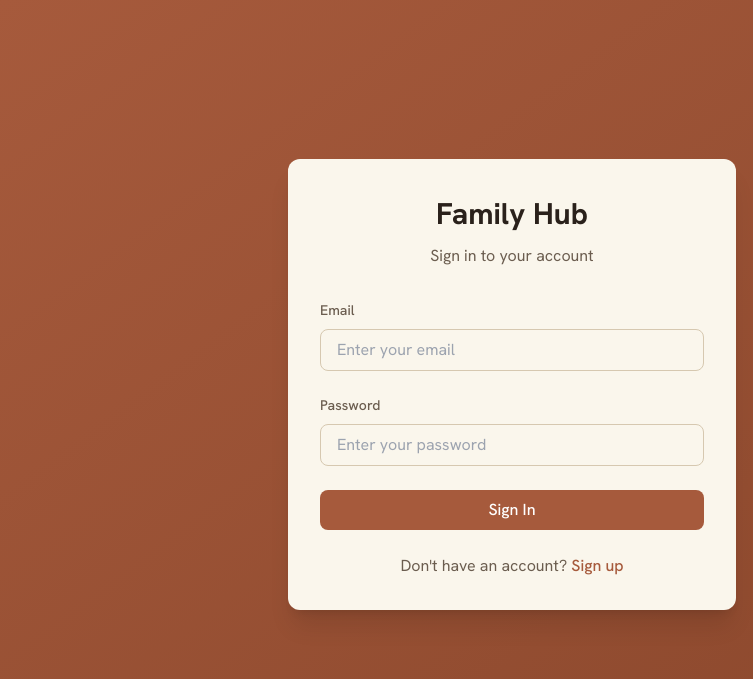
Test: Authentication Pages › Login Page › should show an error message and not navigate when login fails
Type "test@example.com" into the field with placeholder "Enter your email".
click(512, 350); type("test@example.com")  # box [320,328,704,370]
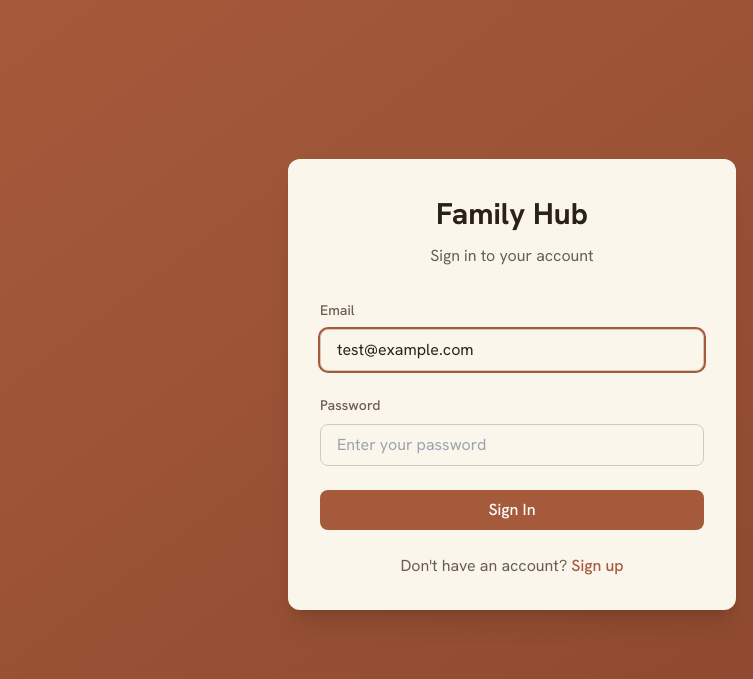
Type "wrong" into the password field with placeholder "Enter your password".
click(512, 444); type("wrong")  # box [320,424,704,466]
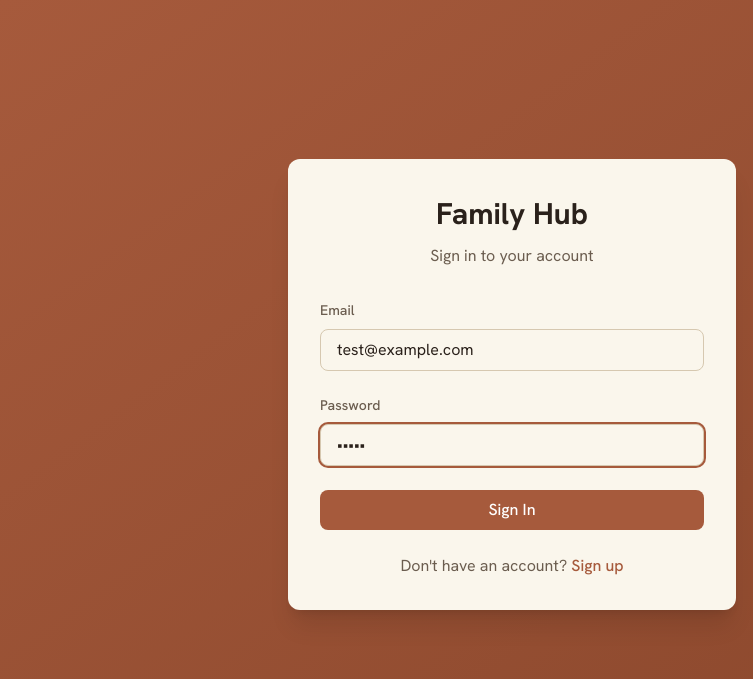
Click the button "Sign In".
click(512, 510)  # box [320,490,704,530]
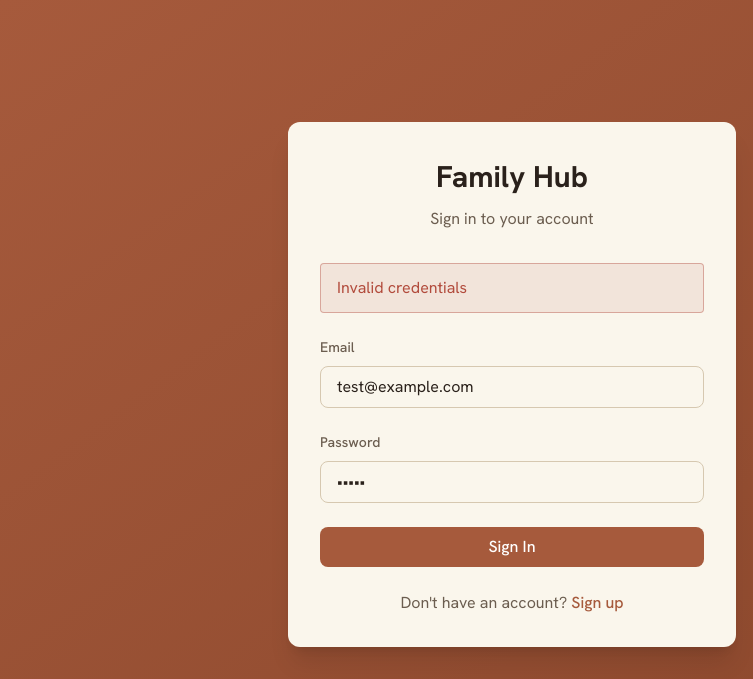
Check: the text "Invalid credentials" is shown, box [320,262,704,312]
